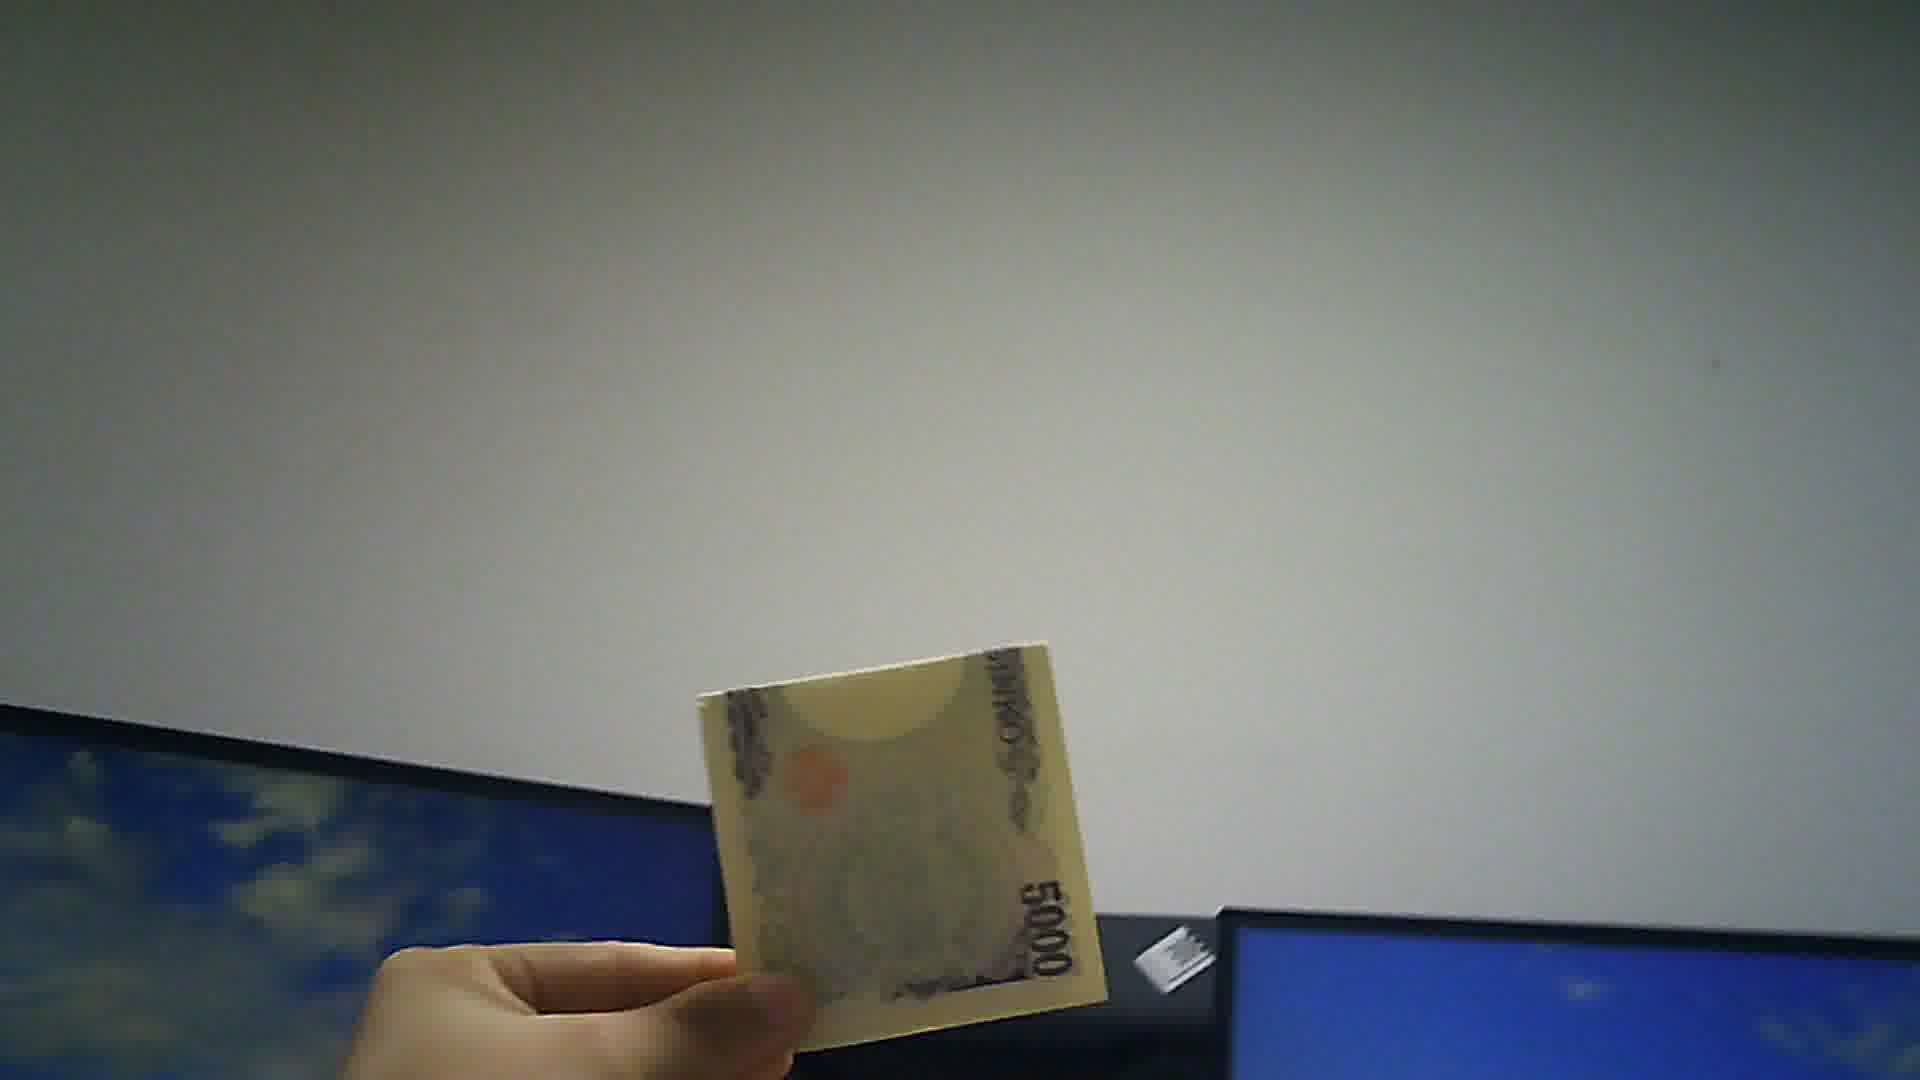5,000 Yen: (684, 633, 1133, 1048)
